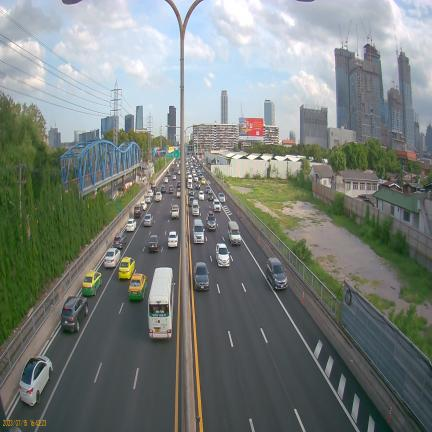bus: (148, 267, 175, 338)
car: (60, 296, 88, 332), (266, 257, 288, 289), (193, 262, 209, 290), (216, 243, 230, 266), (104, 248, 120, 268), (113, 232, 126, 248), (148, 235, 160, 252), (206, 211, 216, 231), (168, 231, 178, 247), (143, 213, 154, 226), (126, 219, 136, 232)
pickup: (228, 221, 241, 245), (171, 205, 179, 218)
taxi: (82, 271, 102, 295), (129, 273, 146, 300), (119, 257, 135, 279)
van: (193, 219, 204, 243)
